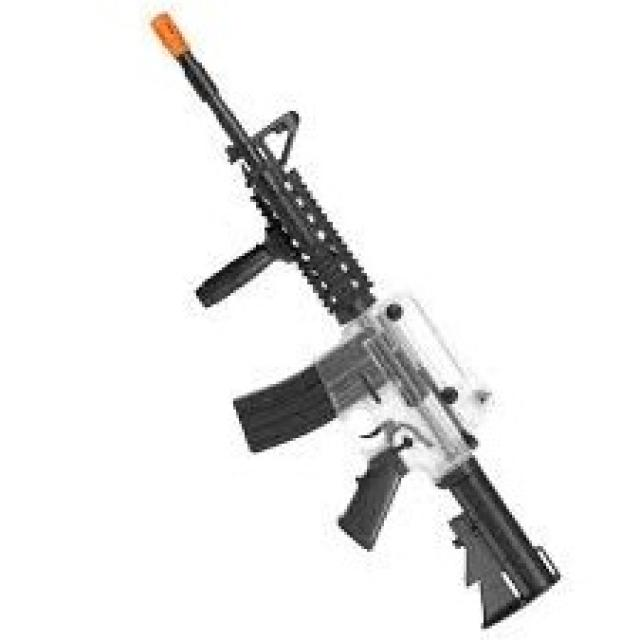rifle: (141, 6, 578, 634)
